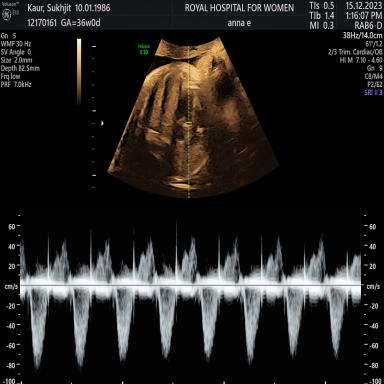Ultrasound-Waves: (25, 210, 359, 384)
